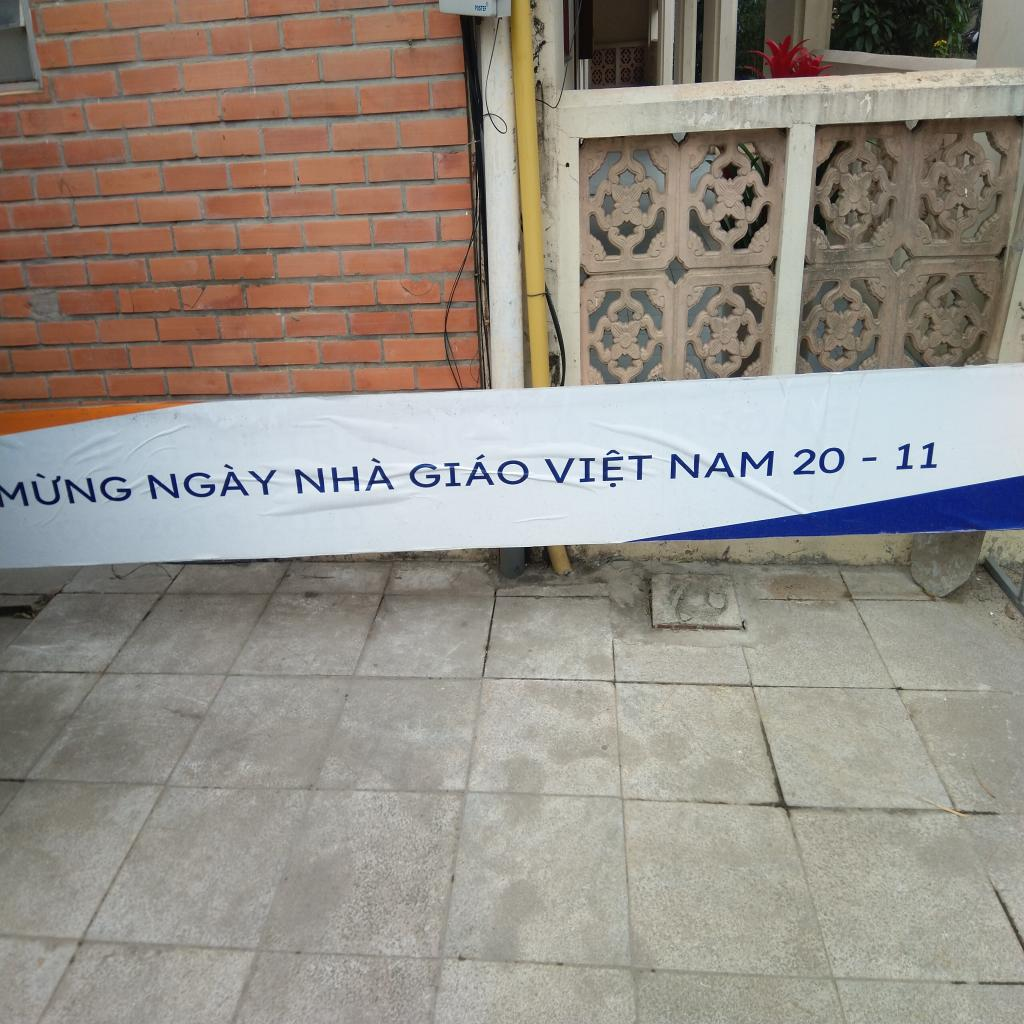text: (143, 456, 280, 508), (0, 466, 132, 516), (536, 442, 658, 494), (666, 437, 778, 485), (289, 454, 400, 502), (407, 450, 529, 492), (788, 432, 853, 481), (890, 428, 946, 476)
